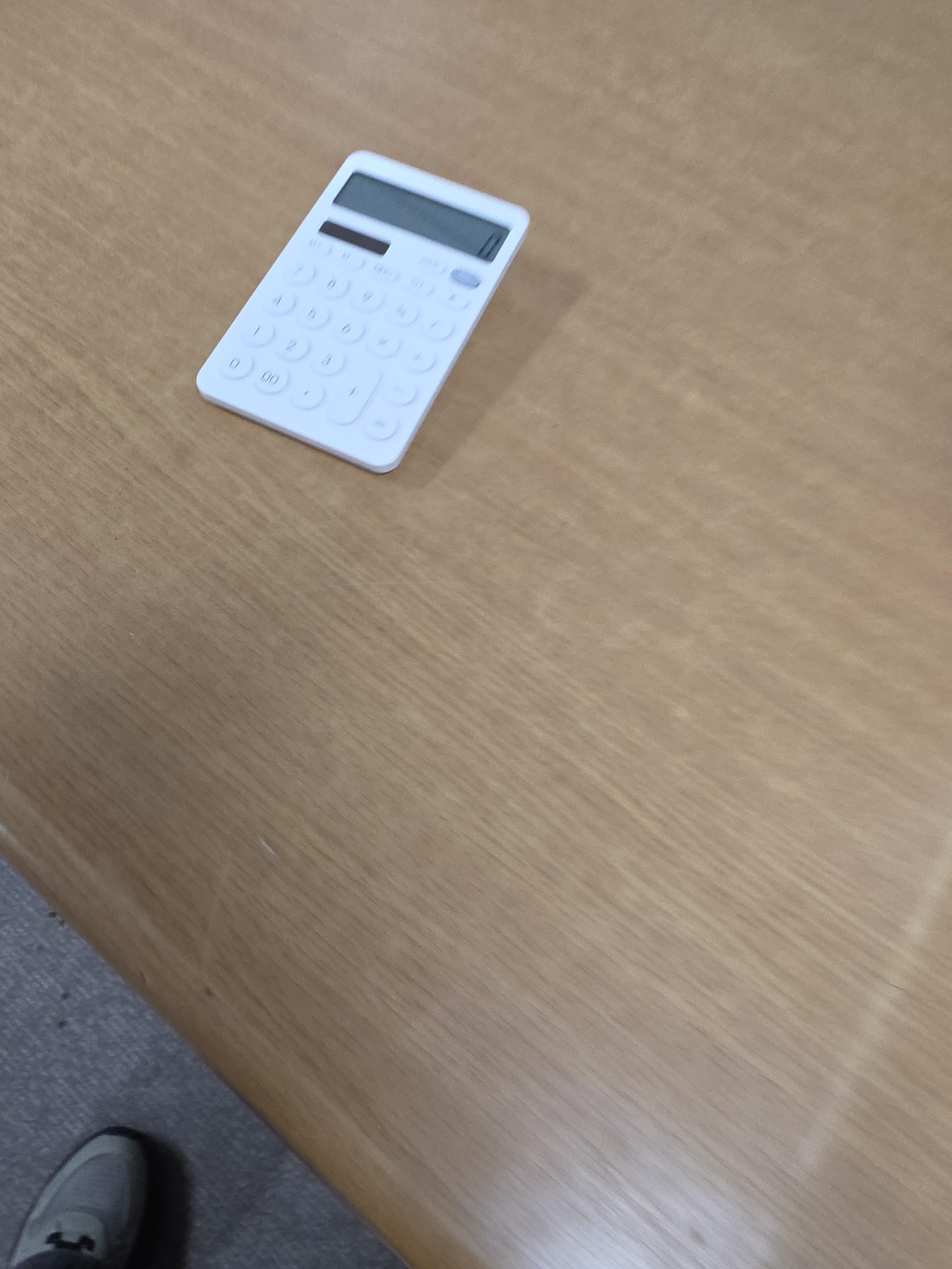calculator: (195, 149, 531, 475)
